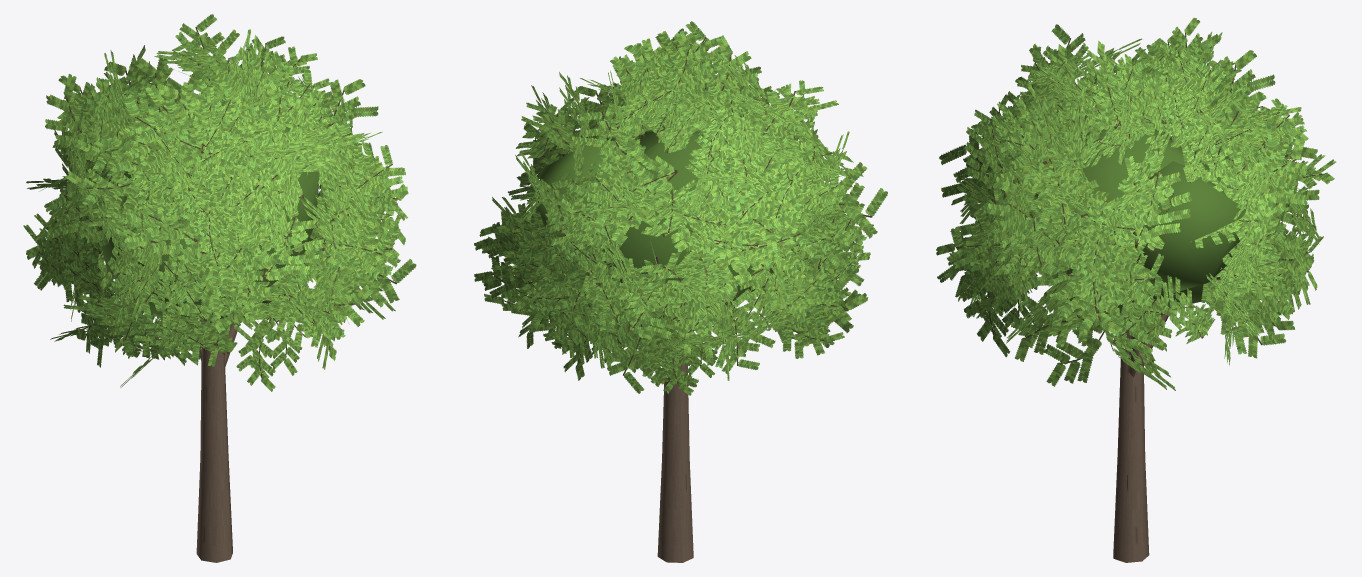
File: ROBINIA_1.glb
3 renders of one model, left to right at view 1: azimuth 30°, elevation 25°; view 2: azimuth 150°, elevation 25°; view 3: azimuth 270°, elevation 25°, orthographic.
Visible parts, largest first — view 1: Arv_ROBINIA_lod1; view 2: Arv_ROBINIA_lod1; view 3: Arv_ROBINIA_lod1.
Boxes of the visible parts, bbox=[...] form: Arv_ROBINIA_lod1: bbox=[23, 14, 416, 562]; Arv_ROBINIA_lod1: bbox=[474, 21, 887, 562]; Arv_ROBINIA_lod1: bbox=[936, 17, 1336, 562].
Bounding box in the file's own units: 7.8 × 11.03 × 7.99.
3 materials, 2 textured.
